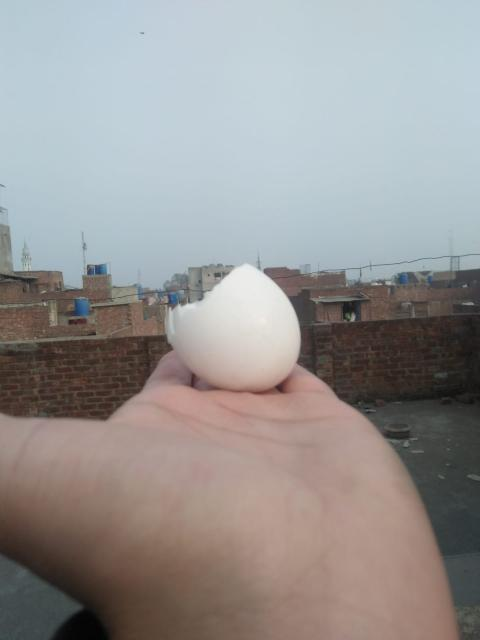Roto: (165, 265, 299, 391)
